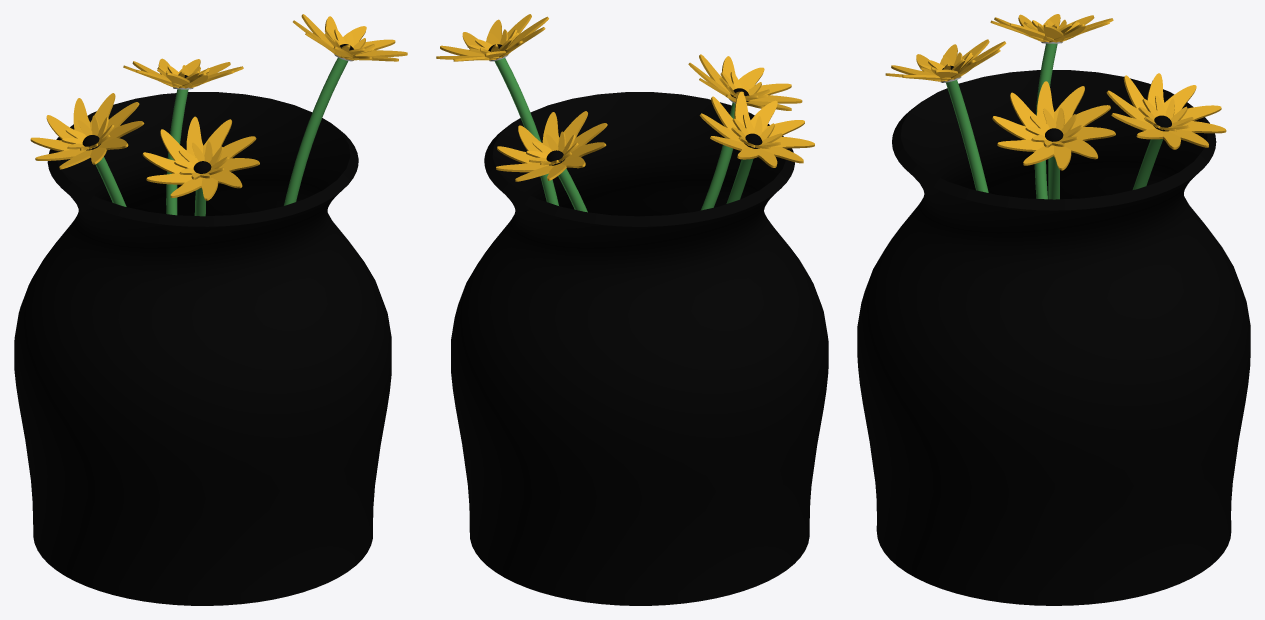
File: flowers and vase v3.obj
3 renders of one model, left to right at view 1: azimuth 30°, elevation 25°; view 2: azimuth 150°, elevation 25°; view 3: azimuth 270°, elevation 25°, orthographic. The views are drawn at different scales.
Visible parts, largest first — view 1: Body2, Body1:13, Body1:5, Body1:3, Body1:1, Body1:9, Body2:4, Body1:11, Body2:2, Body2:1, Body1:7; view 2: Body2, Body1:5, Body1:9, Body1:13, Body1:1, Body1:3, Body2:2, Body2:3, Body1:15, Body2:4, Body2:1, Body1:7; view 3: Body2, Body1:1, Body1:9, Body1:13, Body1:5, Body1:15, Body2:1, Body1:7, Body2:3, Body1:11, Body2:4.
Boxes of the visible parts, left/top/right/bottom form: Body2: left=14, top=92, right=391, bottom=605; Body1:13: left=142, top=116, right=259, bottom=200; Body1:5: left=30, top=93, right=144, bottom=169; Body1:3: left=284, top=57, right=348, bottom=205; Body1:1: left=293, top=14, right=407, bottom=61; Body1:9: left=123, top=58, right=243, bottom=88; Body2:4: left=174, top=141, right=228, bottom=179; Body1:11: left=166, top=89, right=188, bottom=215; Body2:2: left=62, top=115, right=113, bottom=150; Body2:1: left=324, top=29, right=374, bottom=55; Body1:7: left=95, top=157, right=126, bottom=206; Body2: left=451, top=92, right=828, bottom=605; Body1:5: left=699, top=91, right=814, bottom=167; Body1:9: left=496, top=111, right=607, bottom=181; Body1:13: left=688, top=54, right=802, bottom=110; Body1:1: left=436, top=14, right=548, bottom=61; Body1:3: left=494, top=58, right=558, bottom=205; Body2:2: left=731, top=114, right=782, bottom=149; Body2:3: left=526, top=131, right=578, bottom=165; Body1:15: left=700, top=102, right=735, bottom=210; Body2:4: left=719, top=71, right=769, bottom=100; Body2:1: left=467, top=29, right=518, bottom=54; Body1:7: left=726, top=158, right=753, bottom=203; Body2: left=857, top=70, right=1250, bottom=605; Body1:1: left=992, top=81, right=1115, bottom=170; Body1:9: left=1106, top=73, right=1226, bottom=149; Body1:13: left=885, top=39, right=1006, bottom=81; Body1:5: left=990, top=14, right=1113, bottom=42; Body1:15: left=946, top=80, right=988, bottom=192; Body2:1: left=1025, top=108, right=1082, bottom=147; Body1:7: left=1034, top=43, right=1057, bottom=199; Body2:3: left=1138, top=95, right=1193, bottom=131; Body1:11: left=1132, top=139, right=1163, bottom=189; Body2:4: left=919, top=52, right=973, bottom=75.
Size of the model in its own units: 18.41 by 23.36 by 16.65.
